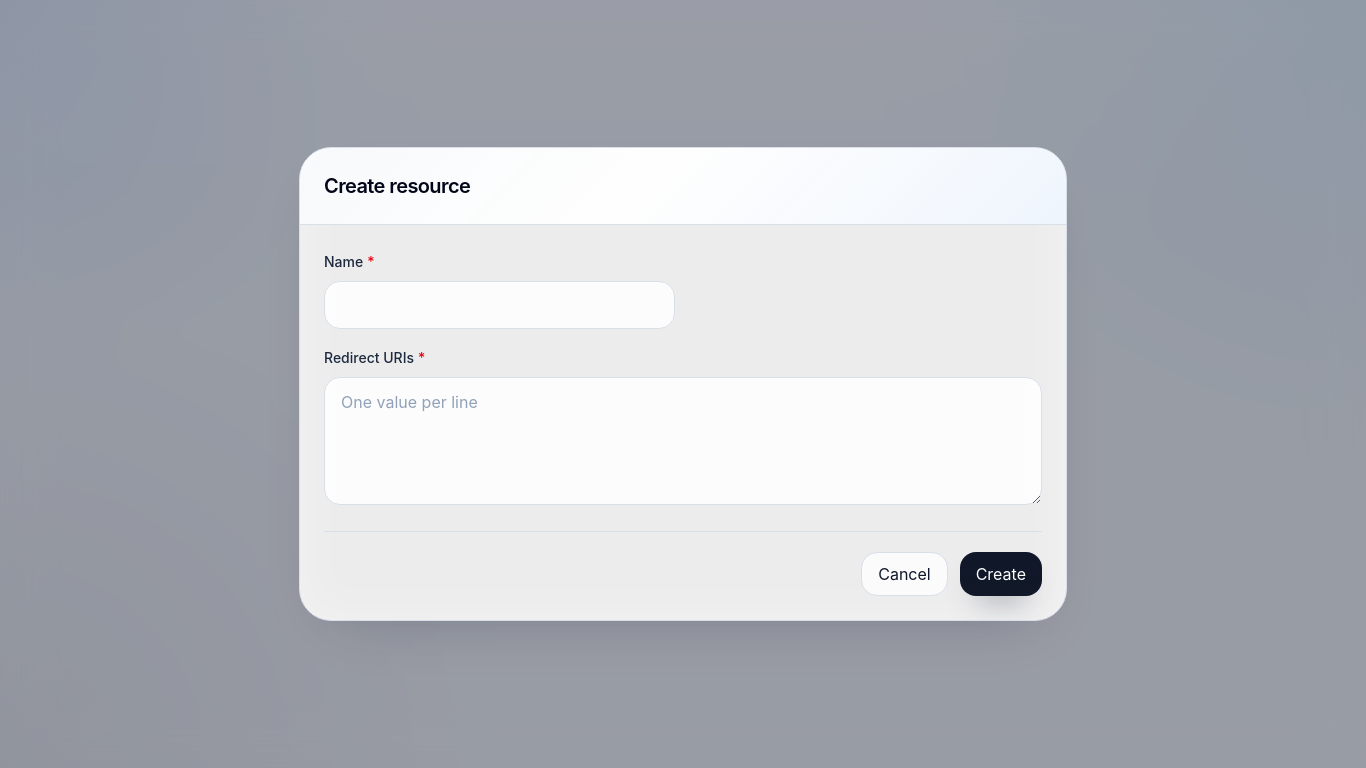
ResourceFormDialog › blocks required structured fields when blank
This screenshot has width=1366, height=768.
Type "Demo Resource" into the field labelled "Name" at [500, 305], box left=324, top=281, right=675, bottom=329
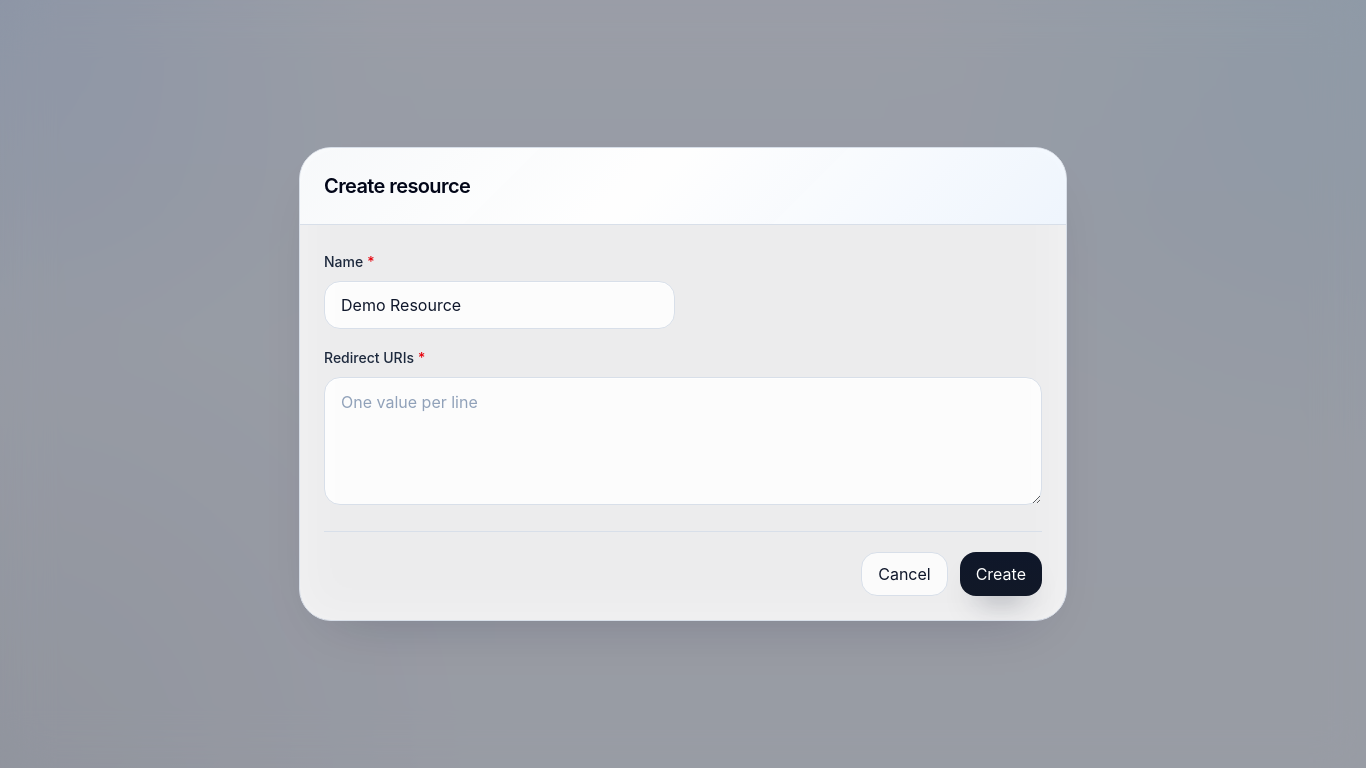
Click the button "Create" at [1001, 574], box left=960, top=552, right=1042, bottom=596
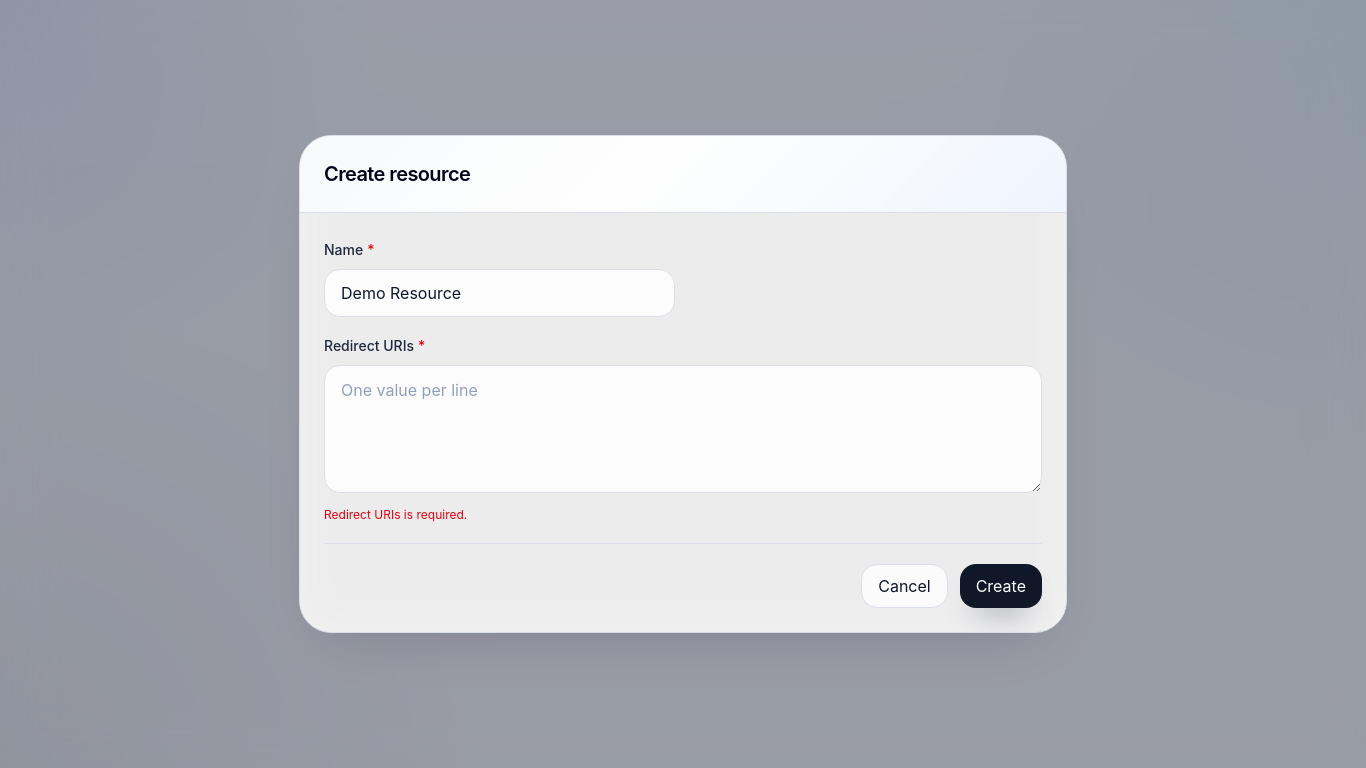
Check: the text "Redirect URIs is required." is shown, box left=324, top=507, right=467, bottom=522
